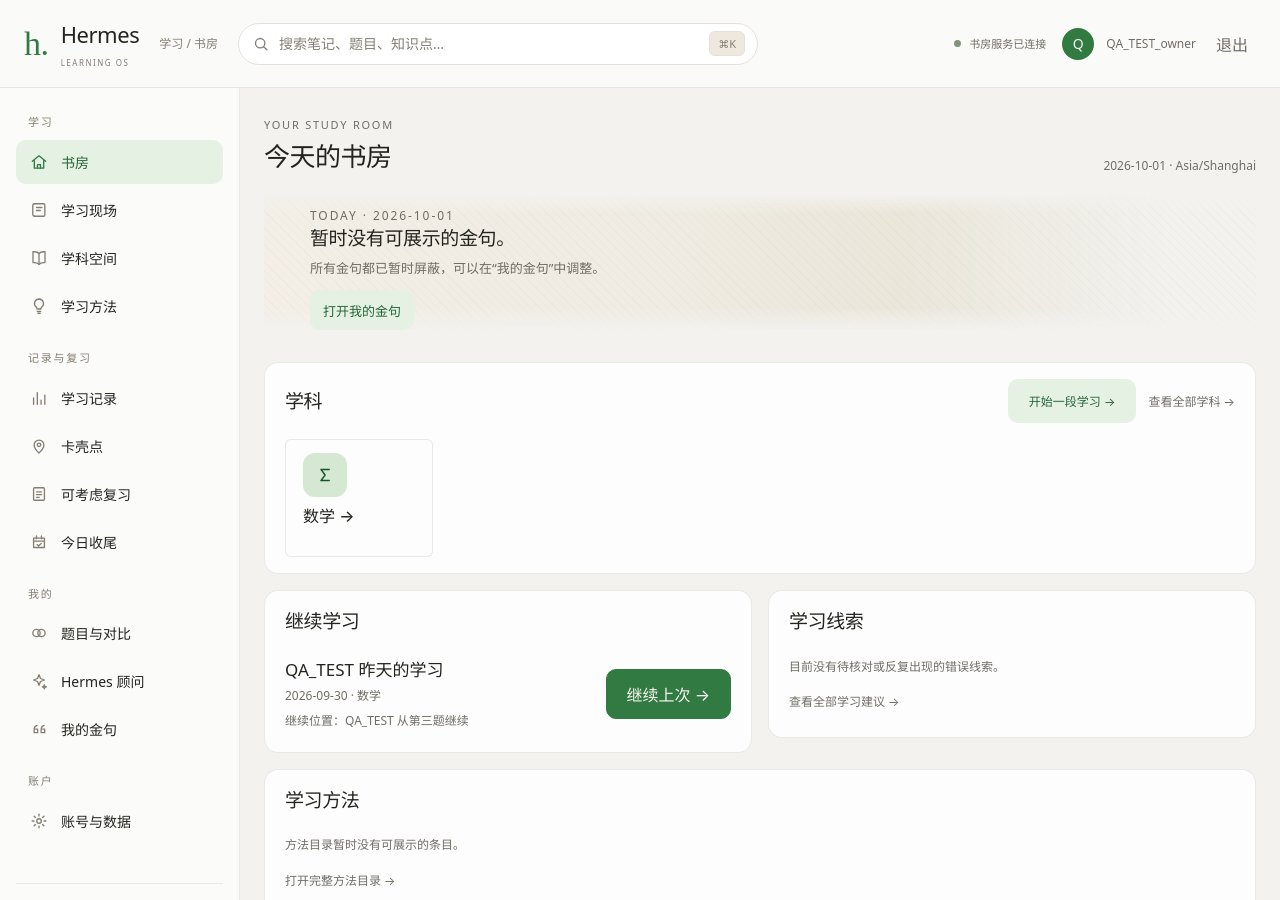
it: continues an ended session only after confirmation and preserves a frozen start: true
Click the button "继续上次 →". click: (668, 694)
box: [606,669,731,719]
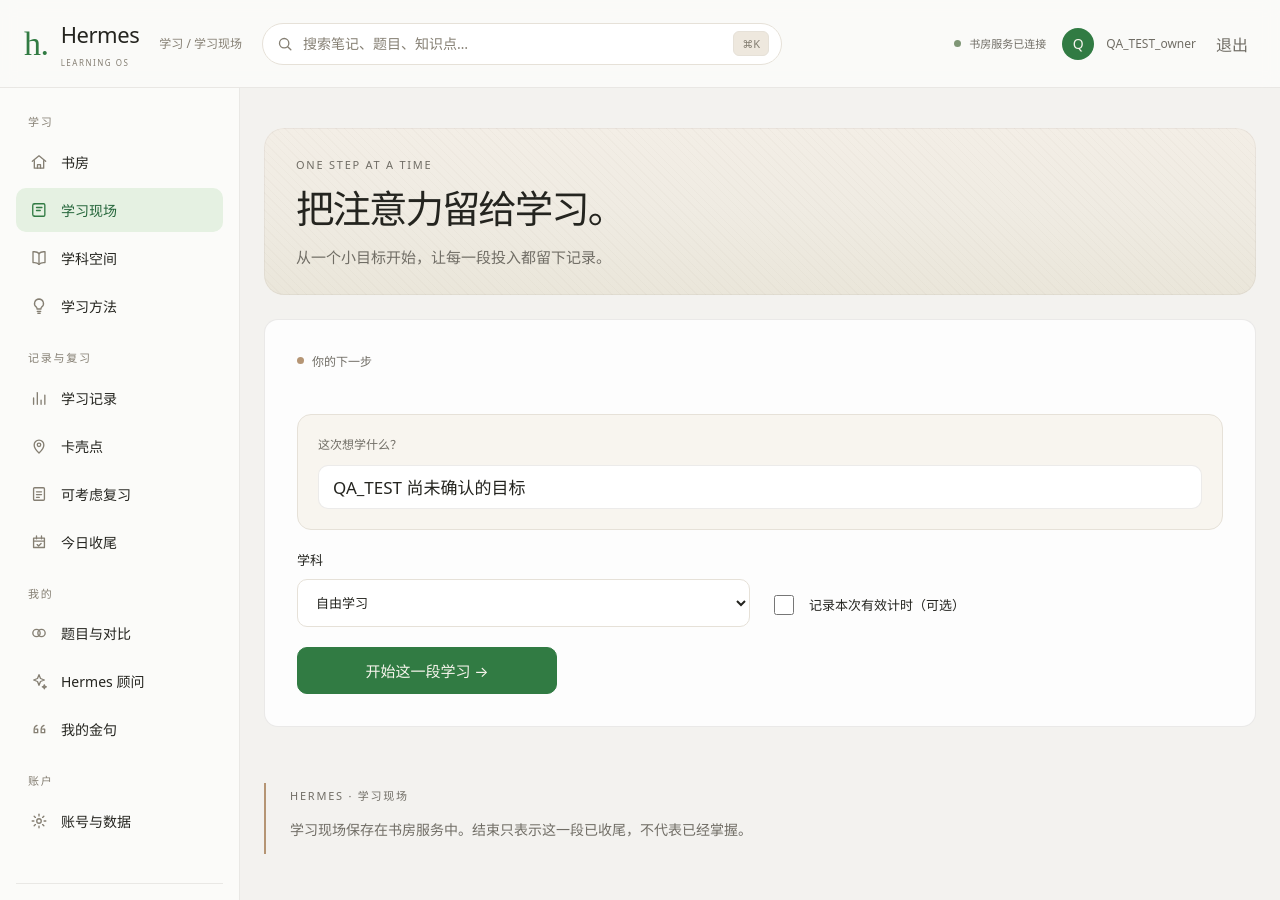
Expected: the field labelled "这次想学什么？" holds "QA_TEST 尚未确认的目标", [318,465,1202,509]
